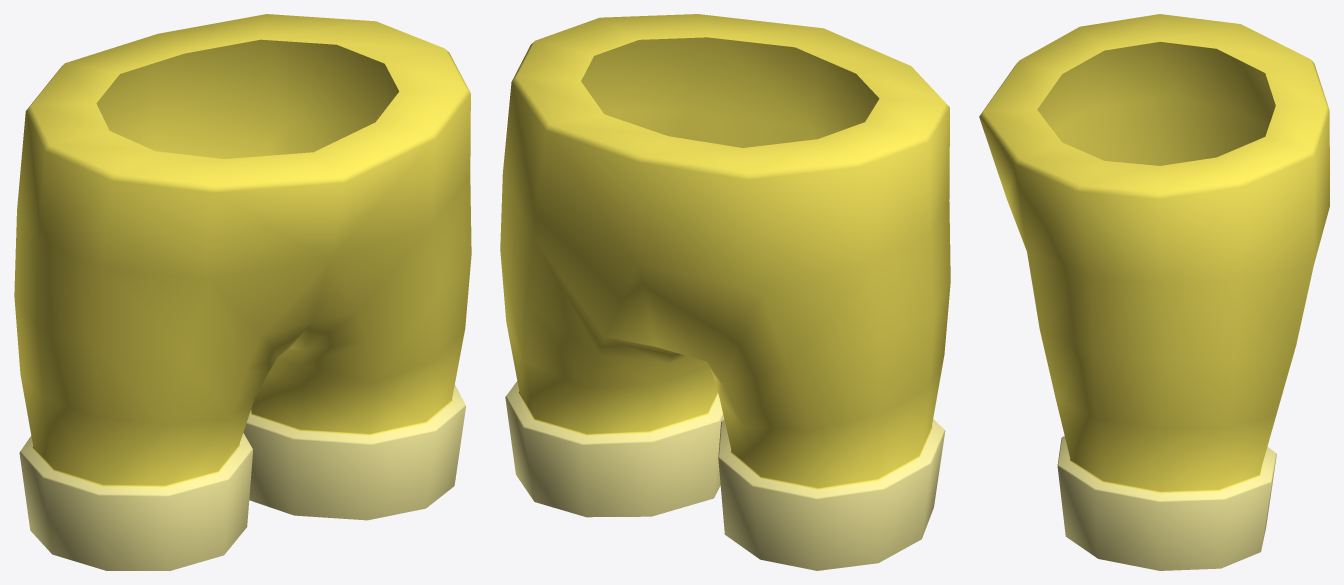
Rendered from Pants_Yellow_002.glb.
3 renders of one model, left to right at view 1: azimuth 30°, elevation 25°; view 2: azimuth 150°, elevation 25°; view 3: azimuth 270°, elevation 25°, orthographic. The views are drawn at different scales.
Visible parts, largest first — view 1: Pants_Yellow_002; view 2: Pants_Yellow_002; view 3: Pants_Yellow_002.
Part boxes in pixels (x1=…): Pants_Yellow_002: x1=14, y1=14, x2=471, y2=570; Pants_Yellow_002: x1=500, y1=14, x2=950, y2=570; Pants_Yellow_002: x1=979, y1=14, x2=1329, y2=570.
Bounding box in the file's own units: 0.4529 × 0.4315 × 0.3561.
1 material, 1 textured.
